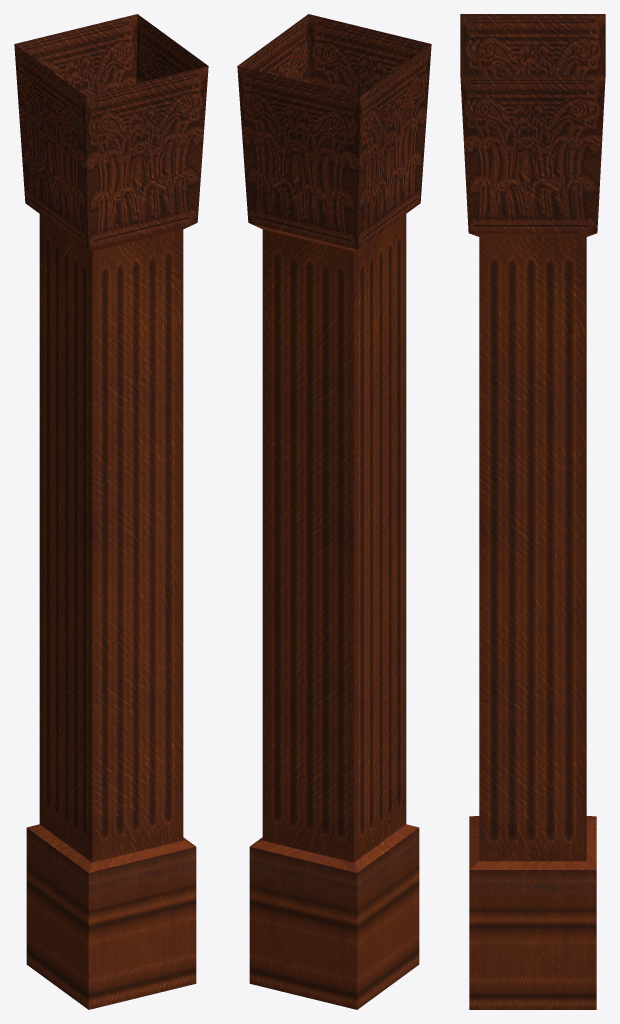
The model's file is ColumnSquare1.fbx.
3 renders of one model, left to right at view 1: azimuth 30°, elevation 25°; view 2: azimuth 150°, elevation 25°; view 3: azimuth 270°, elevation 25°, orthographic. The views are drawn at different scales.
Parts seen in each view (by area): view 1: Cube; view 2: Cube; view 3: Cube.
Boxes of the visible parts, x1,y1,x2,y2 form: Cube: (14, 14, 208, 1009); Cube: (237, 14, 431, 1009); Cube: (460, 14, 605, 1009).
Bounding box in the file's own units: 39.43 × 281 × 39.43.
